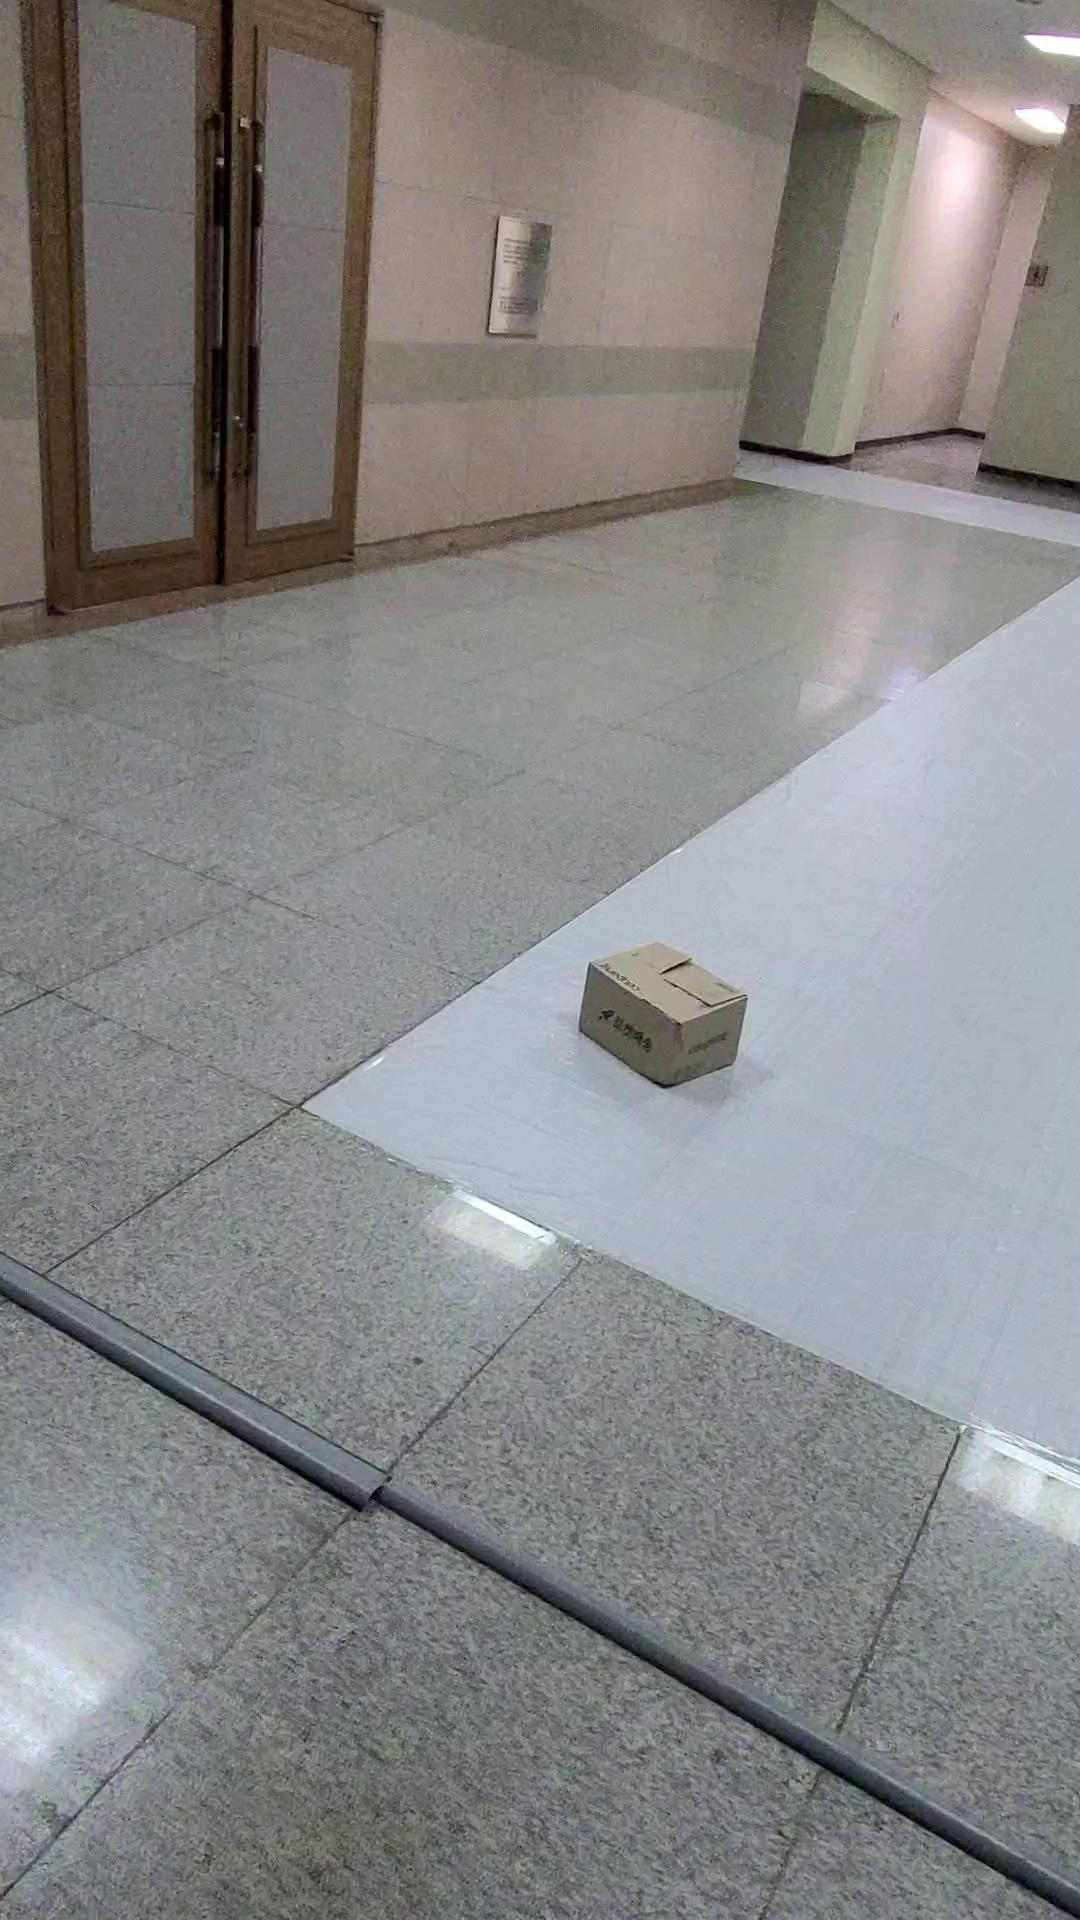Box: (578, 918, 749, 1085)
